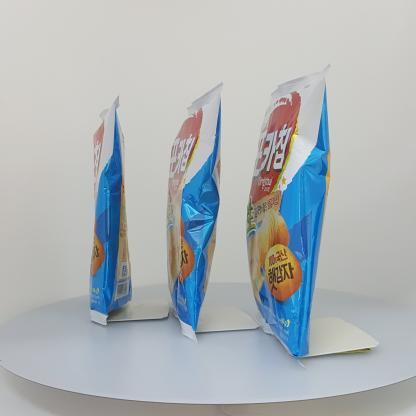Plastic Packaging: (245, 66, 335, 356), (166, 80, 224, 338), (86, 86, 138, 324)
